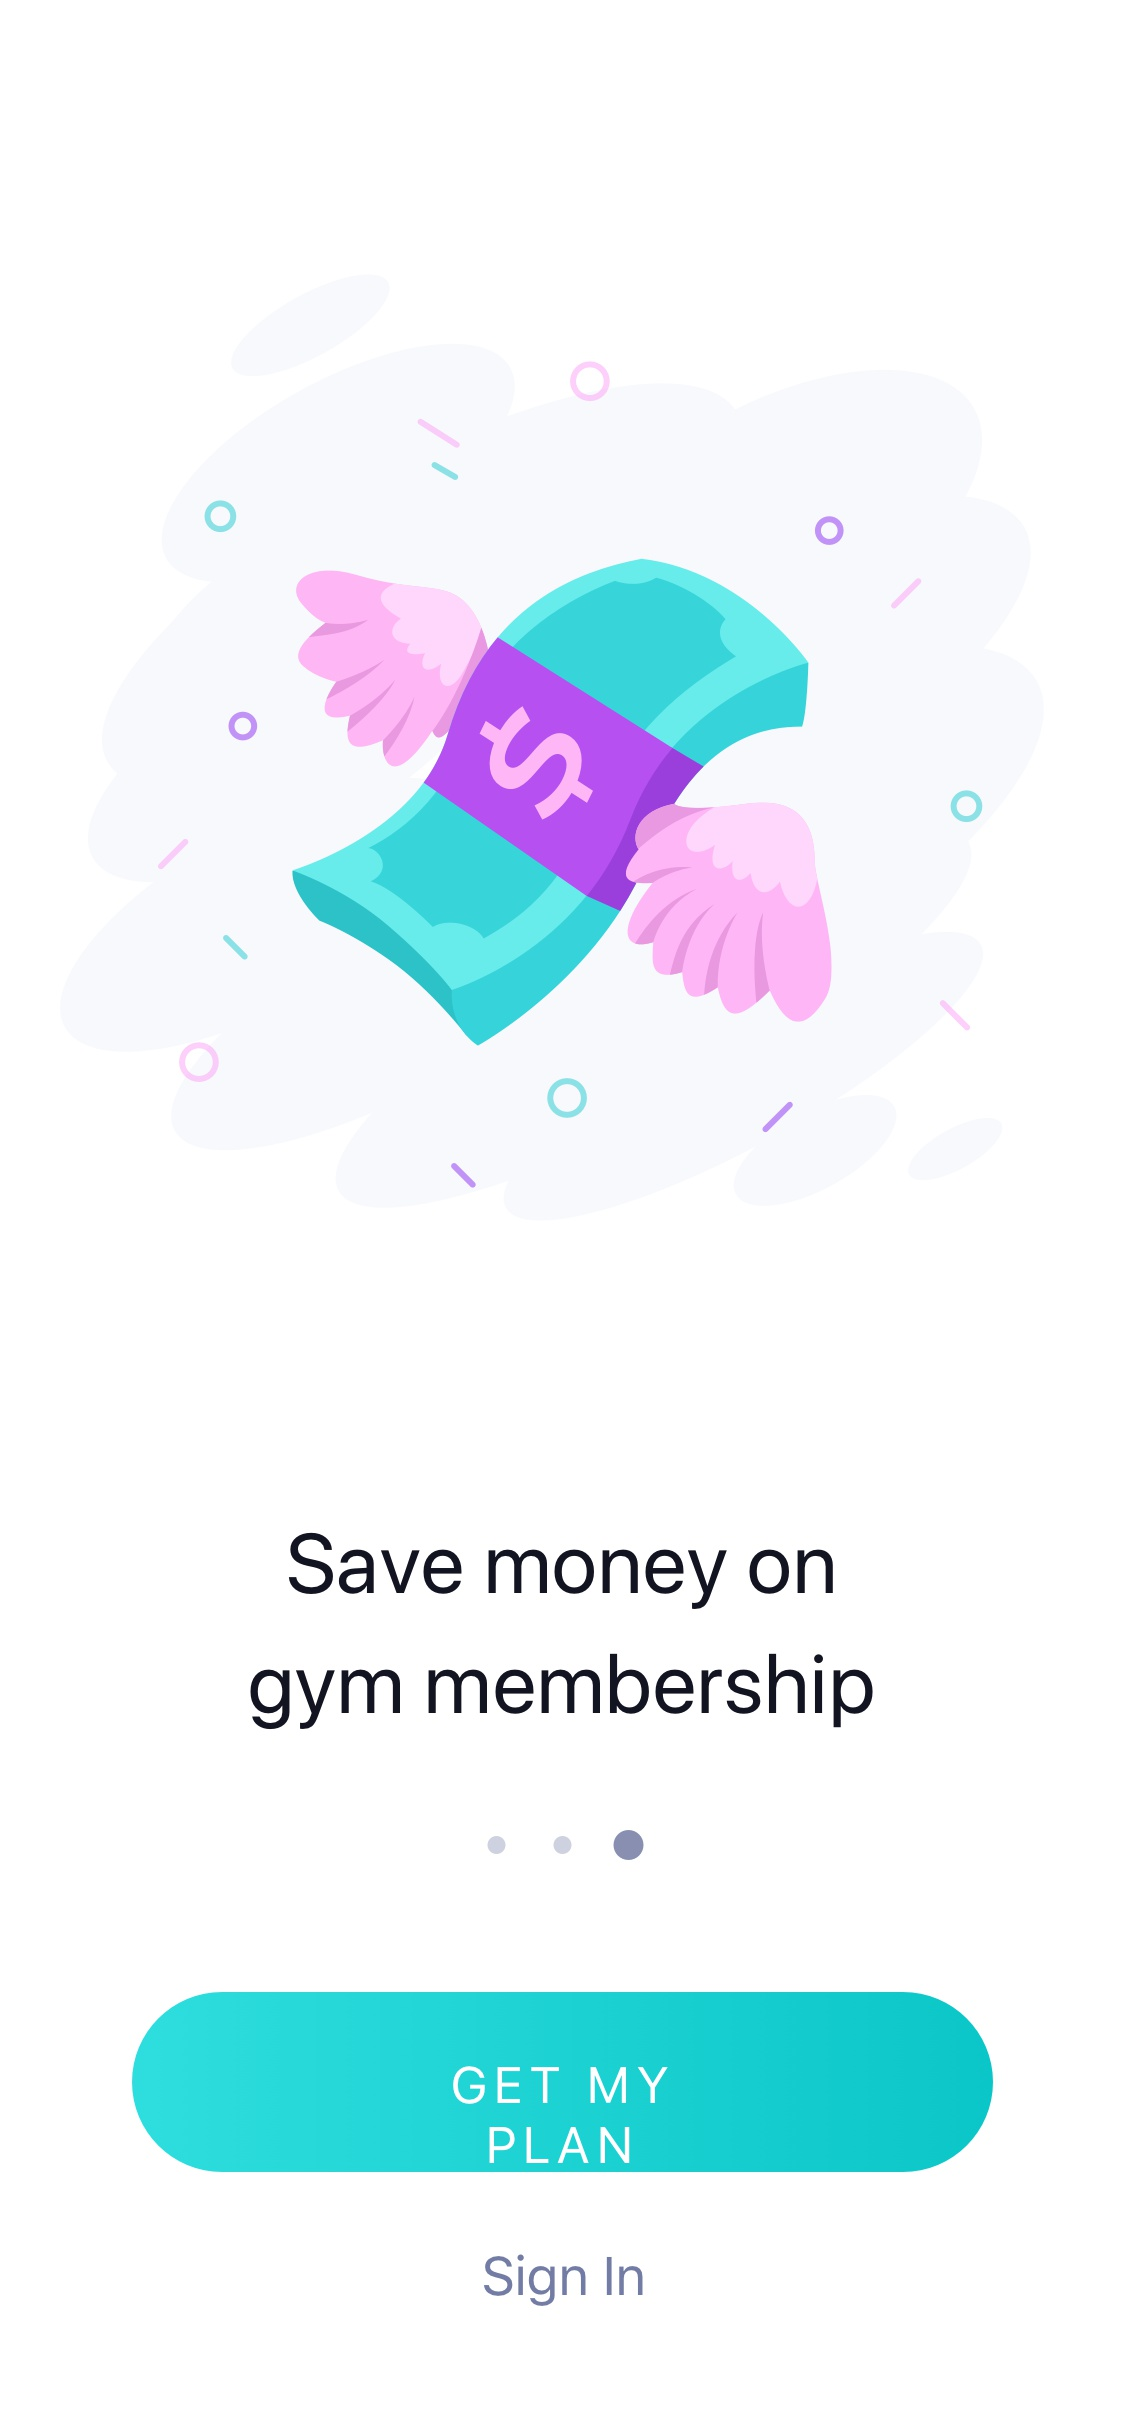Image: (57, 272, 1050, 1227)
PageIndicator: (486, 1829, 645, 1861)
Text: (249, 1532, 873, 1731), (483, 2253, 643, 2307)
TextButton: (132, 1992, 994, 2173)
